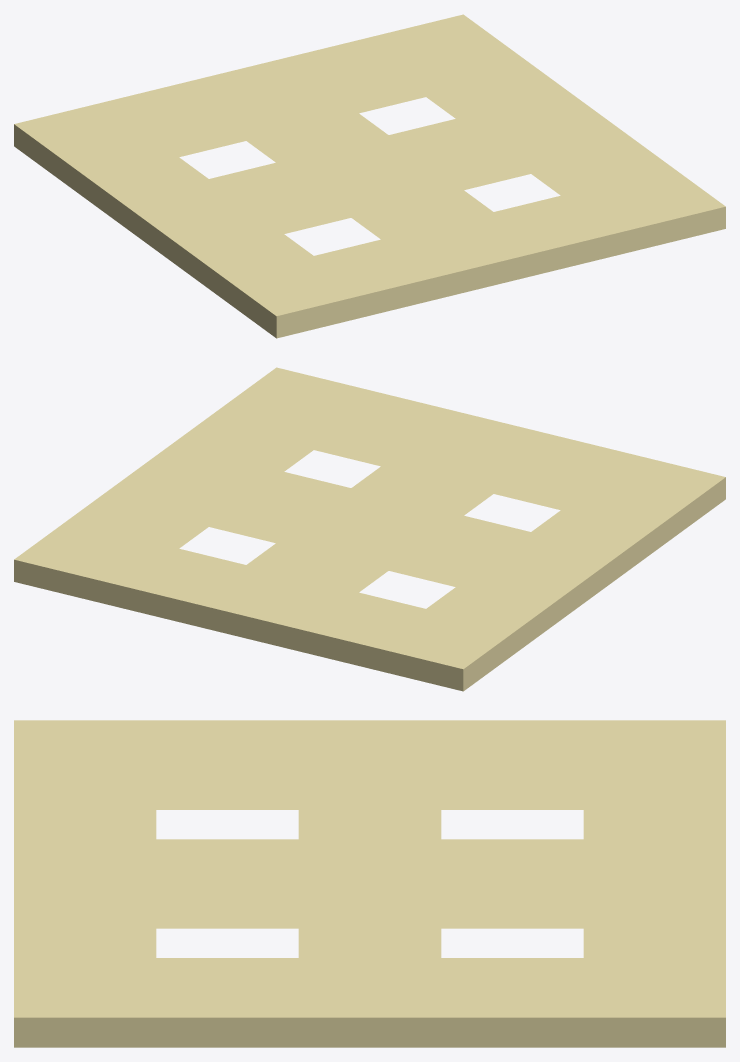
File: objTest1.obj
The picture shows the model from 3 angles, top to bottom: view 1: azimuth 30°, elevation 25°; view 2: azimuth 150°, elevation 25°; view 3: azimuth 270°, elevation 25°; orthographic projection. The views are drawn at different scales.
Parts seen in each view (by area): view 1: default; view 2: default; view 3: default.
Boxes of the visible parts, x1,y1,x2,y2 form: default: (14, 14, 725, 338); default: (14, 367, 725, 691); default: (14, 720, 725, 1047).
Size of the model in its own units: 21.15 by 1 by 21.4.
Materials: 1 (1 with a texture image).
